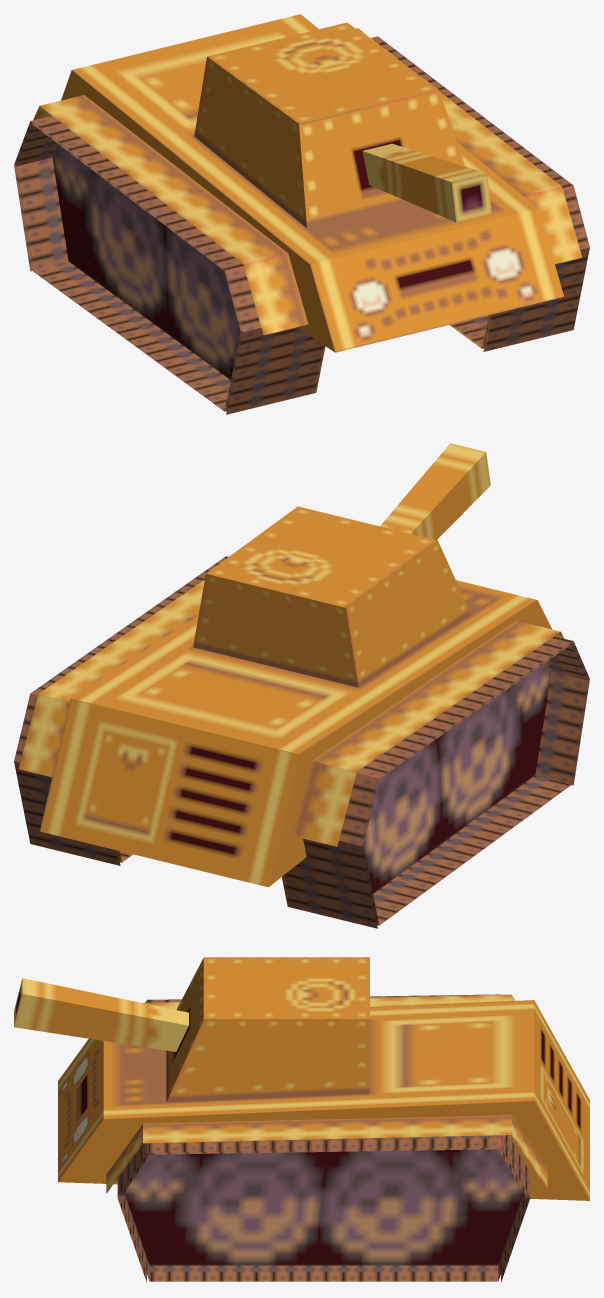
File: tank.obj
3 views of the same model, one above another, from view 1: azimuth 30°, elevation 25°; view 2: azimuth 150°, elevation 25°; view 3: azimuth 270°, elevation 25° (orthographic). The views are drawn at different scales.
Parts seen in each view (by area): view 1: Cube.003; view 2: Cube.003; view 3: Cube.003.
Boxes of the visible parts, x1=… form: Cube.003: x1=14, y1=14, x2=589, y2=414; Cube.003: x1=14, y1=443, x2=589, y2=928; Cube.003: x1=14, y1=957, x2=589, y2=1282.
Bounding box in the file's own units: 3.85 × 2.59 × 6.11.
